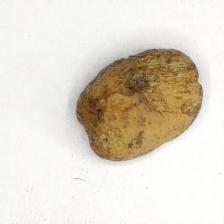NG: (76, 96, 121, 153), (120, 56, 157, 104)
